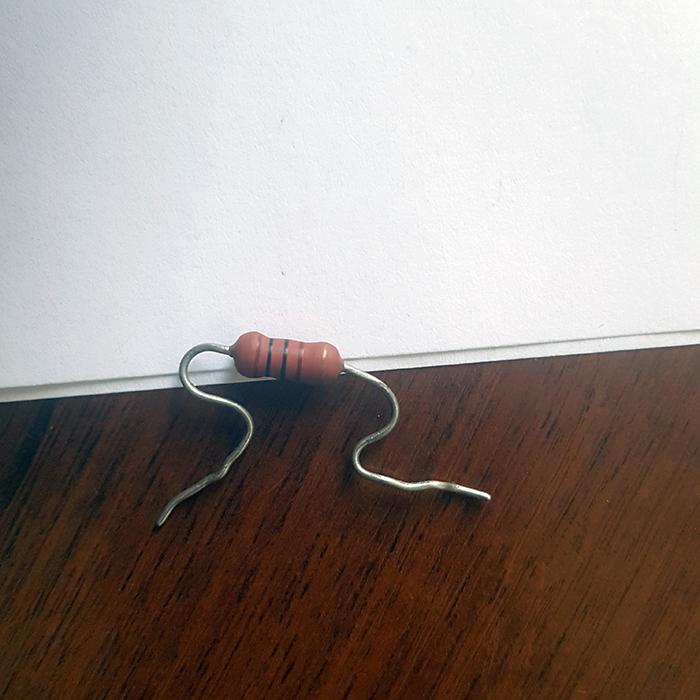resistor: (227, 331, 346, 386)
